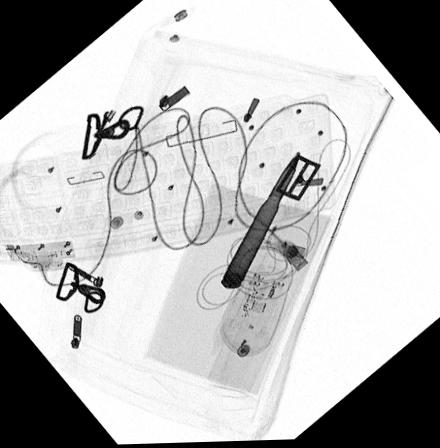Bullet: (218, 152, 300, 291)
